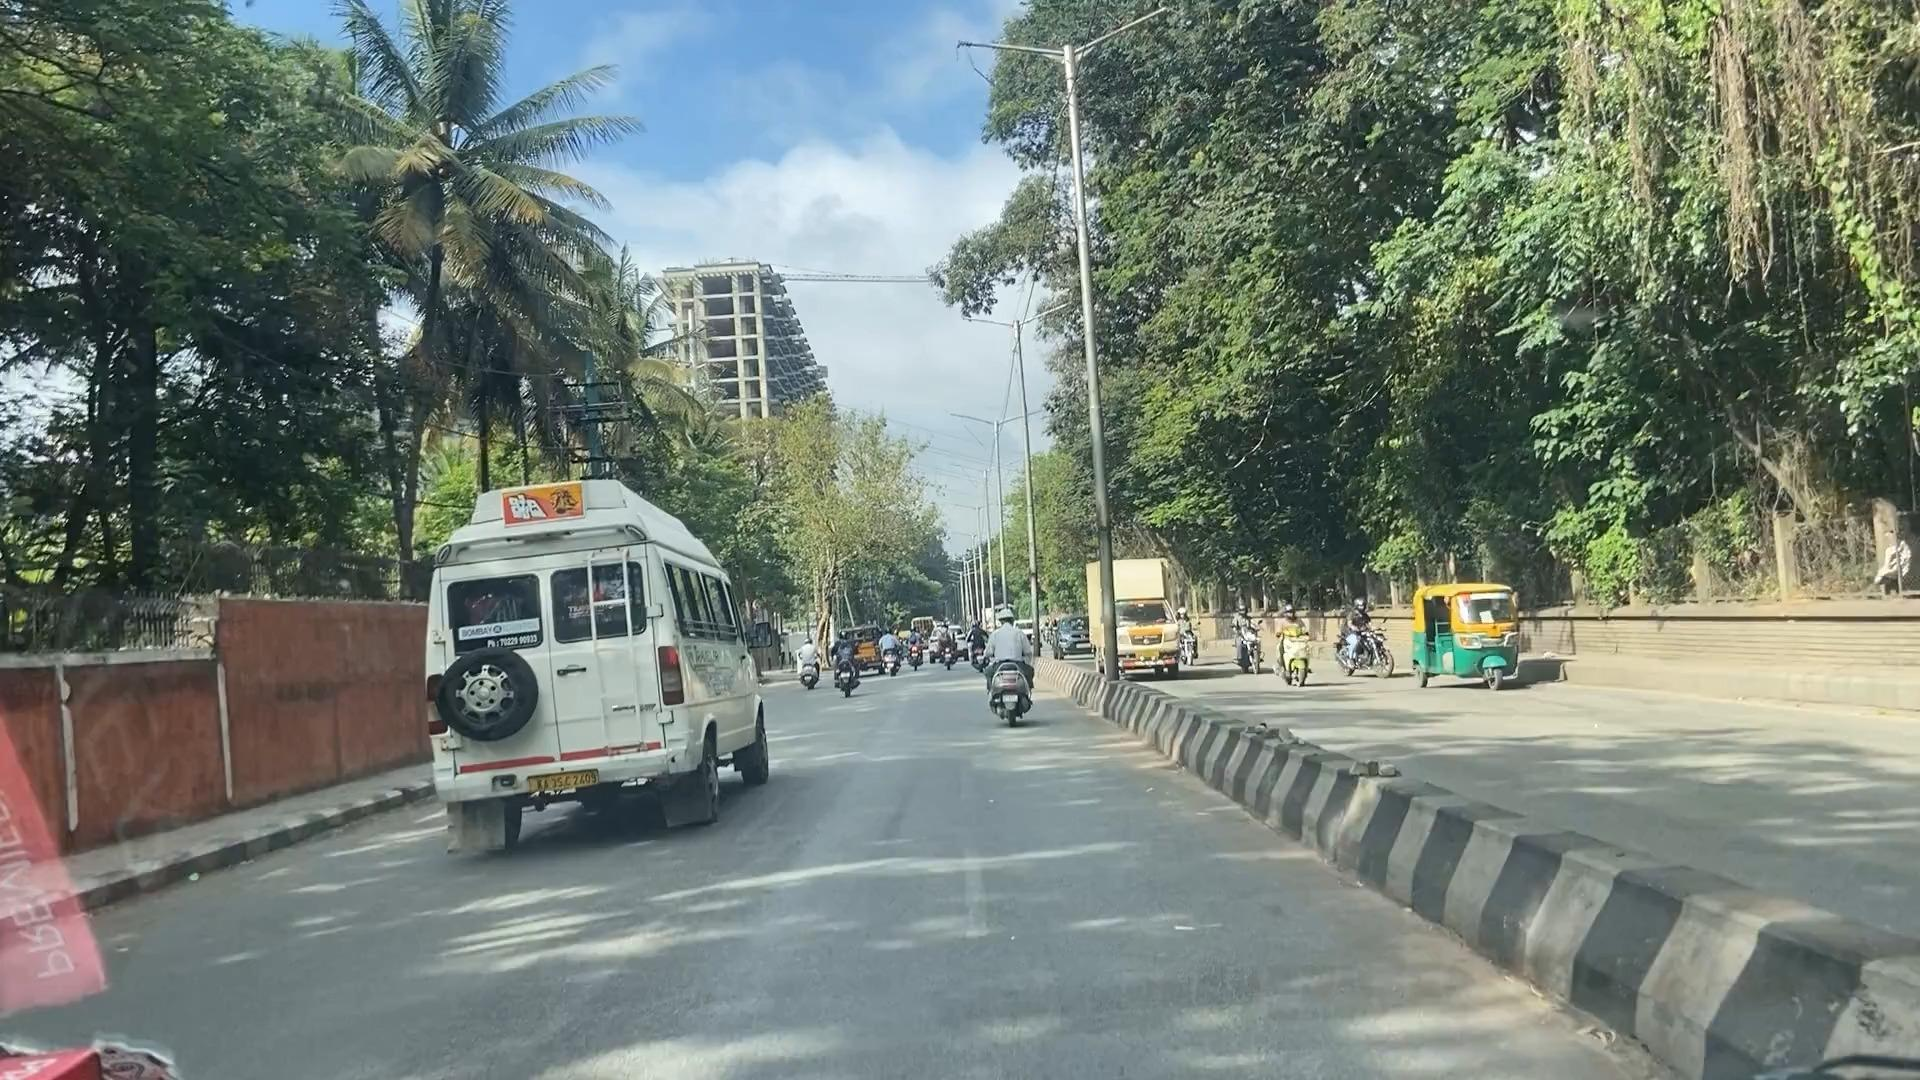HMV: (382, 485, 777, 858)
